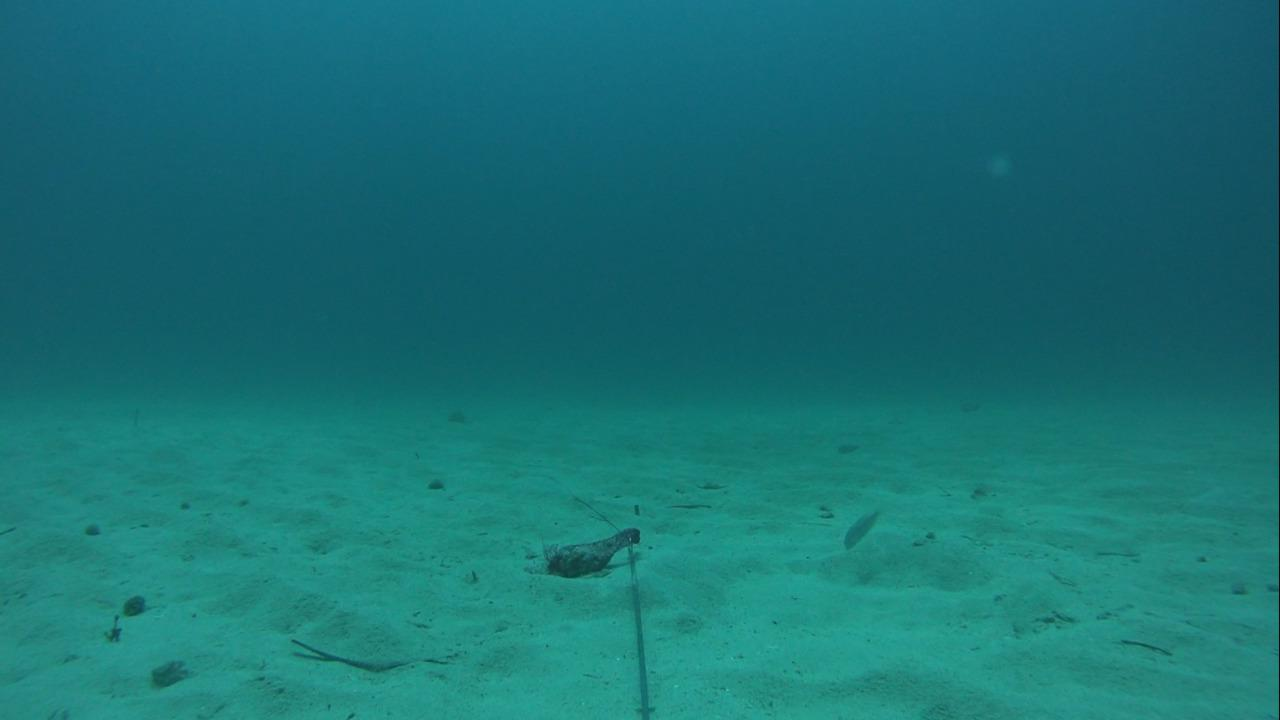raor: (837, 507, 890, 553)
